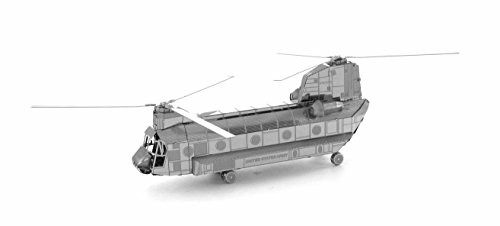chinook: (122, 53, 427, 183)
